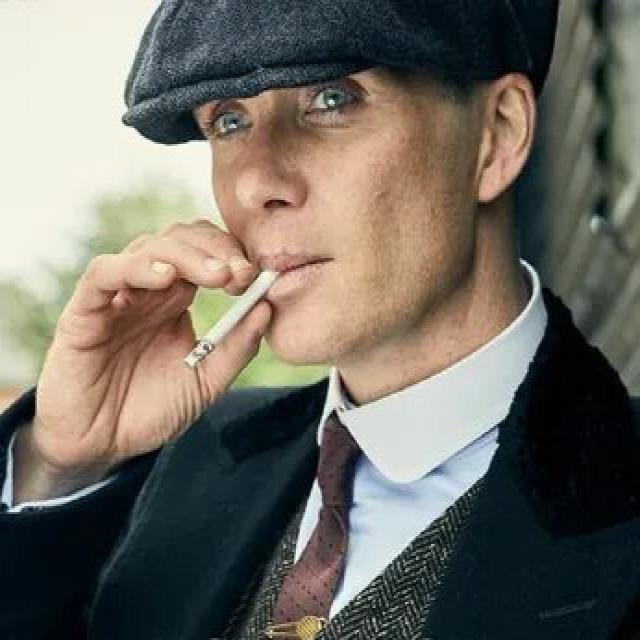cigarette: (181, 264, 287, 376)
